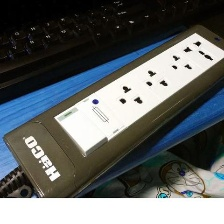three_eye_plug: (0, 22, 224, 200)
